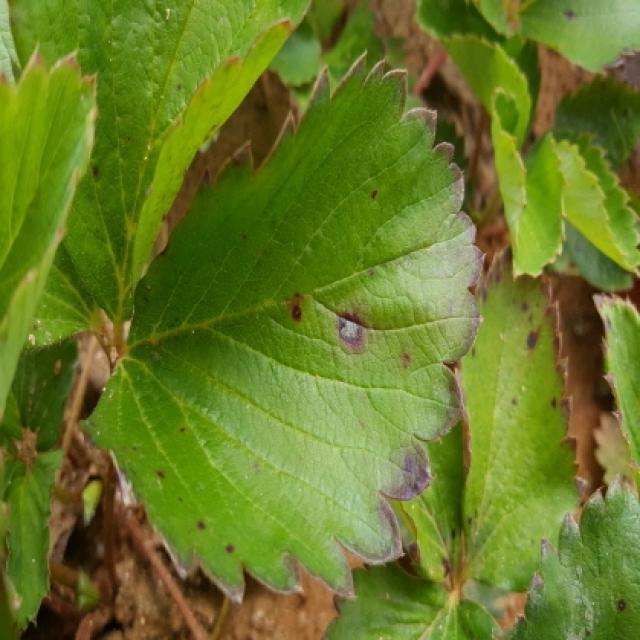Leaf Spot: (77, 50, 486, 606), (6, 0, 315, 324), (454, 243, 590, 592), (498, 470, 640, 638), (384, 417, 471, 589), (518, 0, 640, 74), (591, 291, 640, 474)
